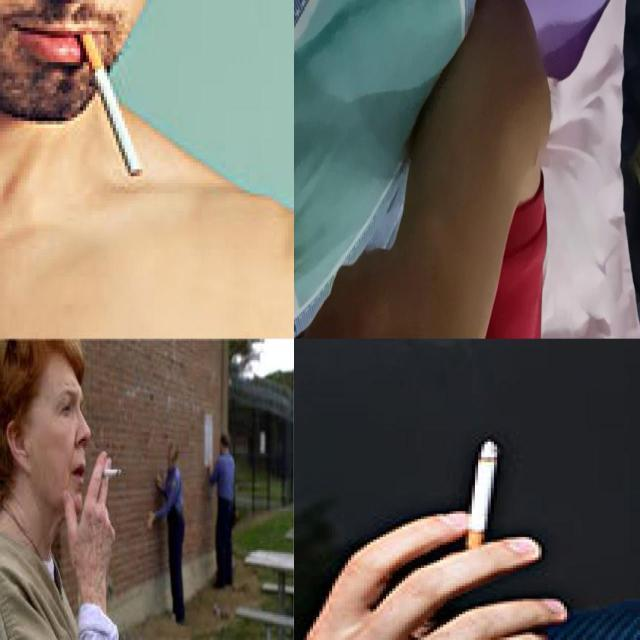smoking: (75, 24, 143, 180), (462, 434, 494, 544), (100, 469, 122, 477)
